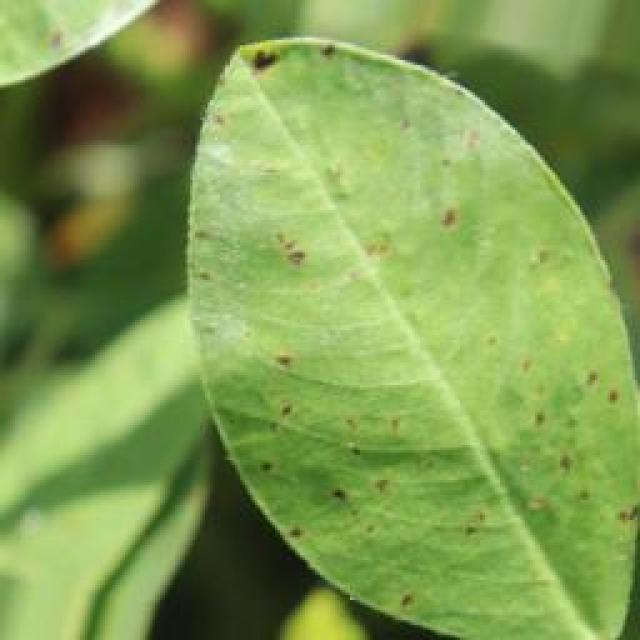Sigatoka: (485, 331, 619, 495), (205, 6, 361, 116), (325, 390, 435, 541), (407, 94, 497, 260), (239, 210, 333, 296), (248, 334, 312, 440)
